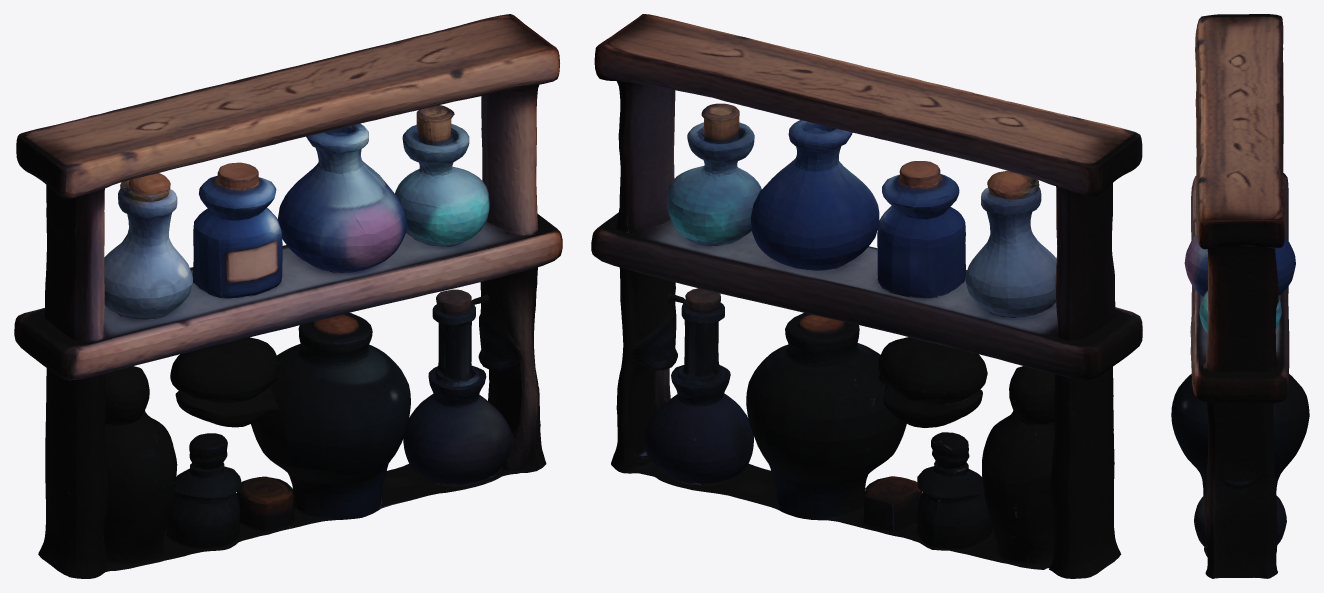
The model's file is Potion_Shelf.glb.
3 renders of one model, left to right at view 1: azimuth 30°, elevation 25°; view 2: azimuth 150°, elevation 25°; view 3: azimuth 270°, elevation 25°, orthographic. The views are drawn at different scales.
Visible parts, largest first — view 1: world; view 2: world; view 3: world.
Part boxes in pixels (x1,y1,x2,y2): world: (14,14,562,578); world: (591,14,1142,578); world: (1171,14,1309,578).
Size of the model in its own units: 0.9957 by 0.8029 by 0.2766.
1 material, 1 textured.
